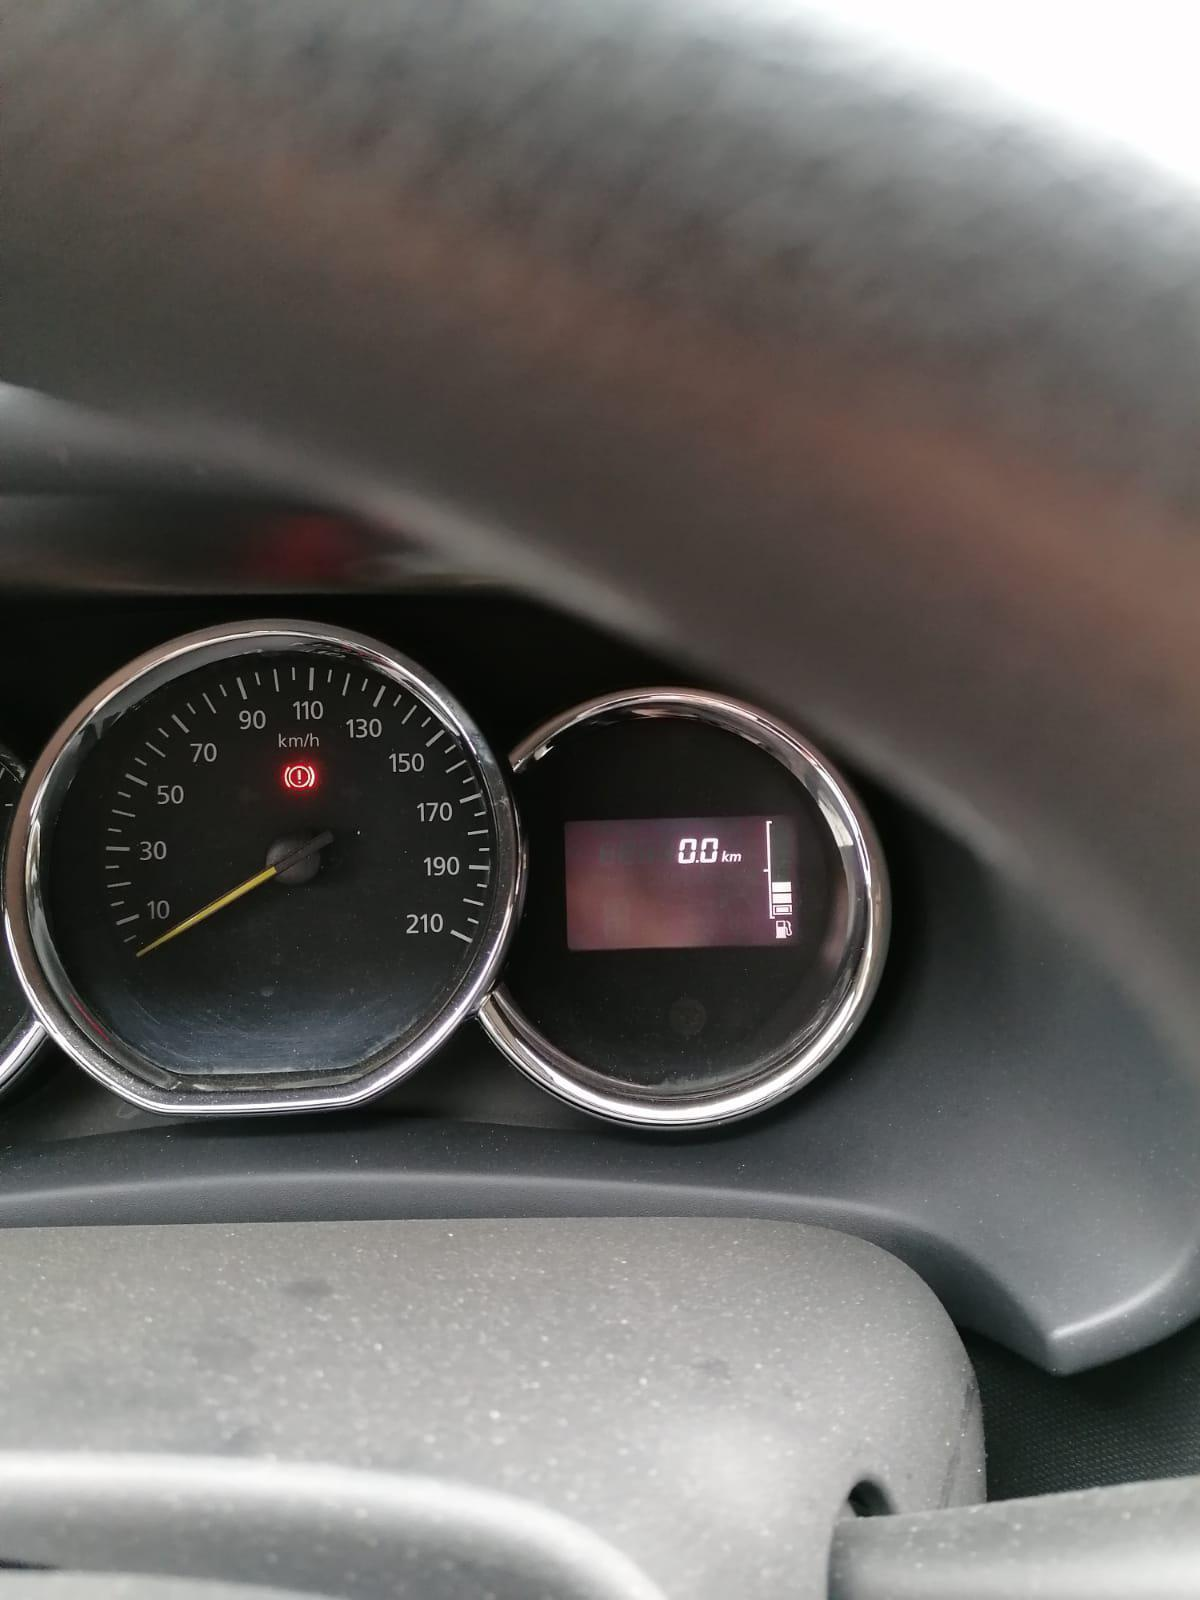,: (695, 859, 700, 863)
0: (700, 837, 718, 863), (677, 838, 696, 864)
X: (729, 853, 741, 862), (721, 850, 729, 862)
odometer: (561, 810, 803, 952)
